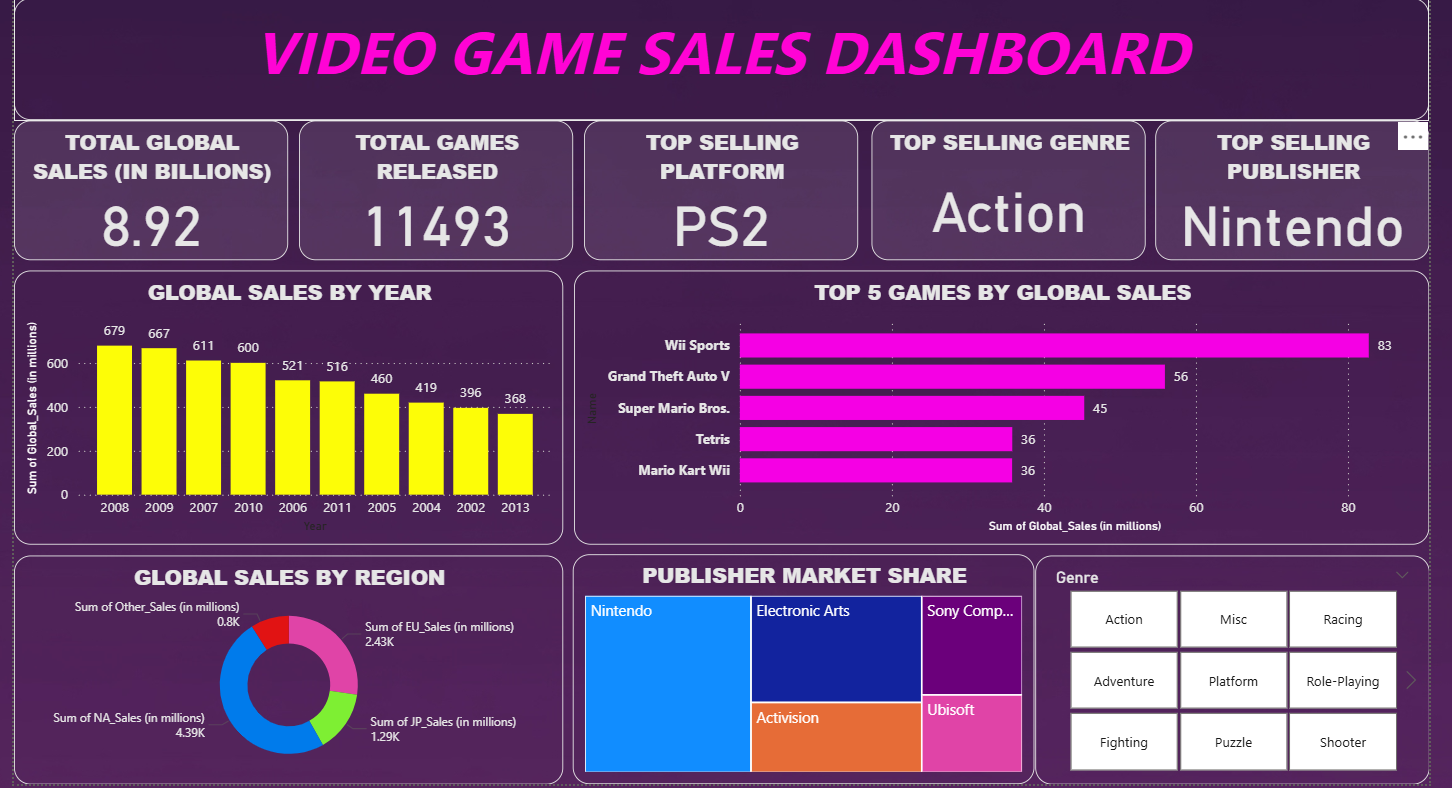

The dashboard page shown, as its layout file describes it:
{"tool":"powerbi","page":{"name":"Page 1","canvas":[1280,720],"ordinal":0},"visuals":[{"type":"card","title":"TOTAL GLOBAL SALES (IN BILLIONS)","fields":{"Values":["vgsales.TOTAL_GLOBAL_SALES"]},"box":[0,119.4,248.4,126.2],"z":0},{"type":"card","title":"TOTAL GAMES RELEASED","fields":{"Values":["vgsales.TOTAL_GAMES_RELEASED"]},"box":[258,119.4,248.4,126.2],"z":1000},{"type":"card","title":"TOP SELLING PLATFORM","fields":{"Values":["vgsales.TOP SELLING PLATFORM"]},"box":[516,119.4,248.4,126.2],"z":2000},{"type":"card","title":"TOP SELLING GENRE ","fields":{"Values":["vgsales.TOP SELLING GENERE"]},"box":[775.3,119.4,248.4,126.2],"z":3000},{"type":"card","title":"TOP SELLING PUBLISHER","fields":{"Values":["vgsales.TOP PUBLISHER"]},"box":[1031.9,119.4,248.4,126.2],"z":4000},{"type":"columnChart","title":"GLOBAL SALES BY YEAR","fields":{"Category":["vgsales.Year"],"Y":["Sum(vgsales.Global_Sales (in millions))"]},"box":[0,255.2,496.7,248.4],"z":5000},{"type":"donutChart","title":"GLOBAL SALES BY REGION","fields":{"Y":["Sum(vgsales.EU_Sales (in millions))","Sum(vgsales.JP_Sales (in millions))","Sum(vgsales.NA_Sales (in millions))","Sum(vgsales.Other_Sales (in millions))"]},"box":[0,513.2,496.7,207.2],"z":6000},{"type":"clusteredBarChart","title":"TOP 5 GAMES BY GLOBAL SALES","fields":{"Y":["Sum(vgsales.Global_Sales (in millions))"],"Category":["vgsales.Name"]},"box":[506.3,255.2,773.9,248.4],"z":7000},{"type":"treemap","title":"PUBLISHER MARKET SHARE","fields":{"Values":["Sum(vgsales.Global_Sales (in millions))"],"Group":["vgsales.Publisher"]},"box":[505.8,511.6,417.4,208.1],"z":8000},{"type":"slicer","fields":{"Values":["vgsales.Genre"]},"box":[923.5,513.2,356.8,207.2],"z":9000},{"type":"textbox","box":[0,9.3,1280.2,110.5],"z":10000}]}

Visuals, with their boxes on the page's 1280x720 design canvas (x1, y1, x2, y2). These are canvas units, not pixel positions in the 1452x788 screenshot, which may show the page scaled, cropped or inside an application window:
"TOTAL GLOBAL SALES (IN BILLIONS)" card: rect(0, 119, 248, 246)
"TOTAL GAMES RELEASED" card: rect(258, 119, 506, 246)
"TOP SELLING PLATFORM" card: rect(516, 119, 764, 246)
"TOP SELLING GENRE " card: rect(775, 119, 1024, 246)
"TOP SELLING PUBLISHER" card: rect(1032, 119, 1280, 246)
"GLOBAL SALES BY YEAR" columnChart: rect(0, 255, 497, 504)
"GLOBAL SALES BY REGION" donutChart: rect(0, 513, 497, 720)
"TOP 5 GAMES BY GLOBAL SALES" clusteredBarChart: rect(506, 255, 1280, 504)
"PUBLISHER MARKET SHARE" treemap: rect(506, 512, 923, 720)
slicer - vgsales.Genre: rect(924, 513, 1280, 720)
textbox: rect(0, 9, 1280, 120)
